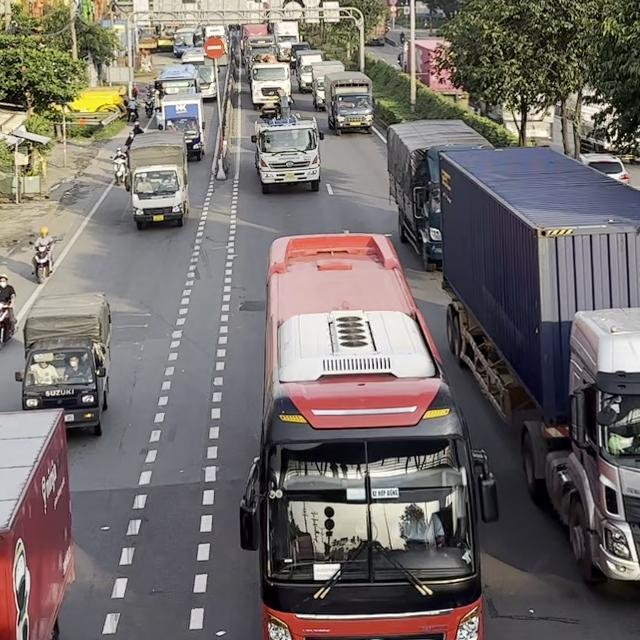bus: (238, 230, 498, 639)
motorcycle: (29, 238, 55, 283), (0, 293, 17, 346), (110, 152, 127, 185), (143, 96, 154, 117)
truck: (437, 144, 640, 590), (0, 406, 76, 639), (385, 117, 495, 271), (14, 291, 112, 436), (123, 134, 190, 230), (251, 112, 324, 193), (154, 92, 205, 160), (323, 70, 375, 134), (248, 62, 293, 109), (310, 60, 345, 111)
